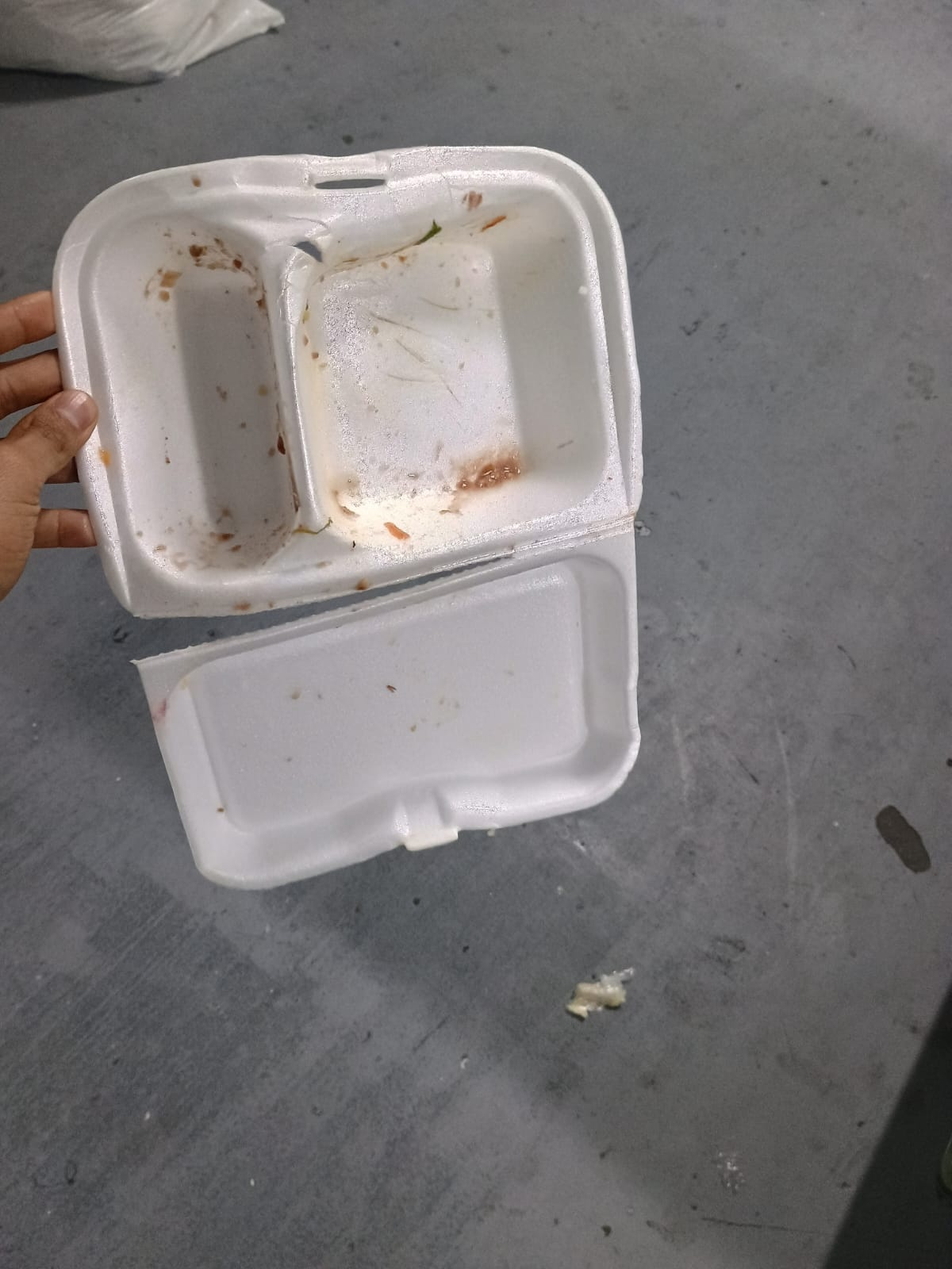Ordinario: (53, 147, 648, 894)
